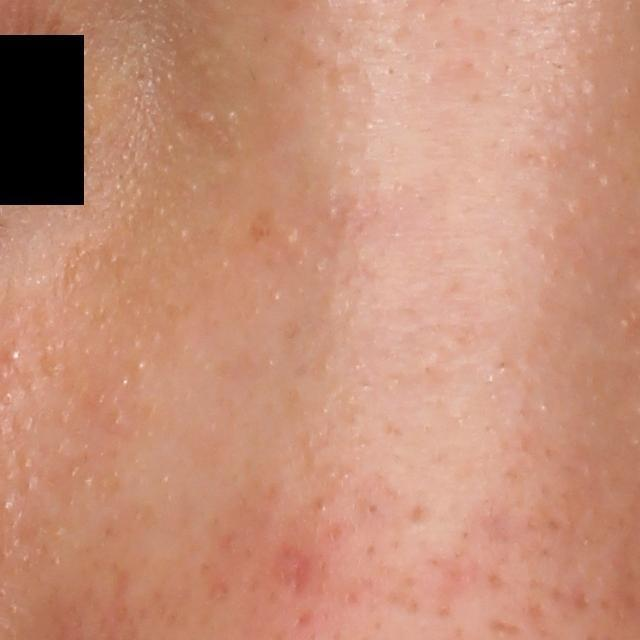atrophic_scar: (268, 537, 325, 610)
comedo: (5, 348, 22, 365)
melasma: (246, 217, 275, 245)
